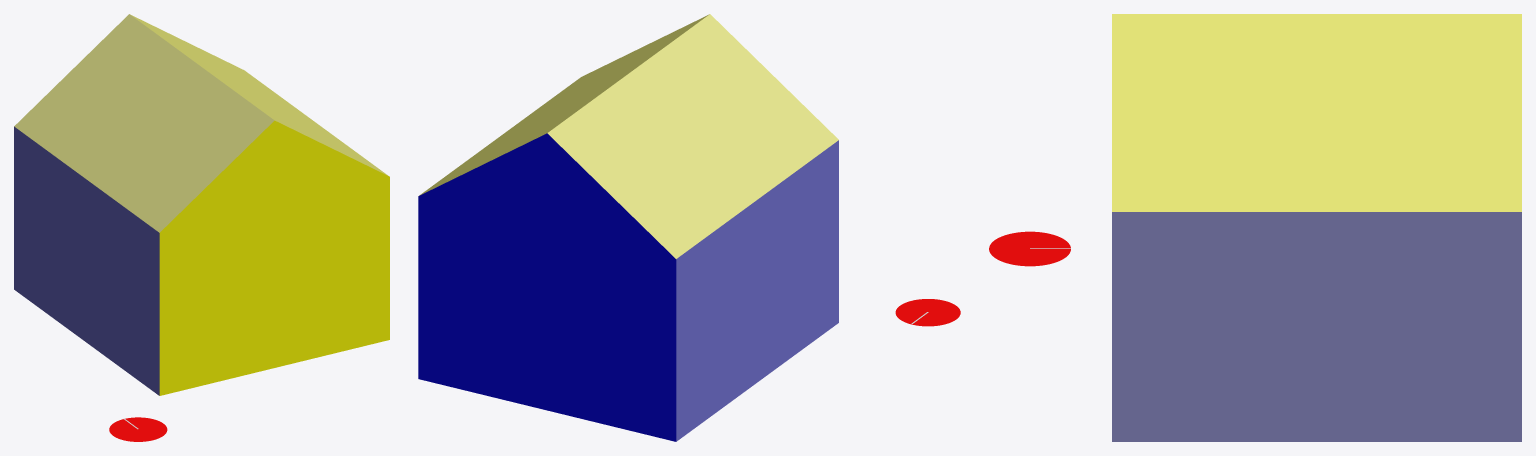
File: result.glb
The picture shows the model from 3 angles, left to right: view 1: azimuth 30°, elevation 25°; view 2: azimuth 150°, elevation 25°; view 3: azimuth 270°, elevation 25°; orthographic projection. The views are drawn at different scales.
Visible parts, largest first — view 1: f95112ec-d76c-485e-b048-b61a591a7633__undefined, b09aa6a2-1fc6-4b9f-a32d-4a644d961413__undefined, 9ec919db-cff8-4386-b85e-b82c581f9526__undefined, eb603e97-b977-4bfc-bd7b-da3d24349026__undefined, c7450c63-a4a9-4ff0-b50e-a0cfb32a3573__Circle; view 2: 9938e726-c70b-4648-9942-f02bd849a025__undefined, b09aa6a2-1fc6-4b9f-a32d-4a644d961413__undefined, 9ec919db-cff8-4386-b85e-b82c581f9526__undefined, eb603e97-b977-4bfc-bd7b-da3d24349026__undefined, c7450c63-a4a9-4ff0-b50e-a0cfb32a3573__Circle; view 3: 5e3f4b50-1d85-4ea6-978b-cf38cd66c20b__undefined, eb603e97-b977-4bfc-bd7b-da3d24349026__undefined, c7450c63-a4a9-4ff0-b50e-a0cfb32a3573__Circle.
Part boxes in pixels (x1=…): f95112ec-d76c-485e-b048-b61a591a7633__undefined: x1=159, y1=120, x2=389, y2=395; b09aa6a2-1fc6-4b9f-a32d-4a644d961413__undefined: x1=14, y1=14, x2=274, y2=232; 9ec919db-cff8-4386-b85e-b82c581f9526__undefined: x1=14, y1=126, x2=159, y2=395; eb603e97-b977-4bfc-bd7b-da3d24349026__undefined: x1=130, y1=14, x2=388, y2=175; c7450c63-a4a9-4ff0-b50e-a0cfb32a3573__Circle: x1=109, y1=417, x2=167, y2=441; 9938e726-c70b-4648-9942-f02bd849a025__undefined: x1=418, y1=133, x2=676, y2=441; b09aa6a2-1fc6-4b9f-a32d-4a644d961413__undefined: x1=547, y1=14, x2=838, y2=258; 9ec919db-cff8-4386-b85e-b82c581f9526__undefined: x1=676, y1=140, x2=838, y2=441; eb603e97-b977-4bfc-bd7b-da3d24349026__undefined: x1=419, y1=14, x2=709, y2=195; c7450c63-a4a9-4ff0-b50e-a0cfb32a3573__Circle: x1=895, y1=299, x2=960, y2=326; 5e3f4b50-1d85-4ea6-978b-cf38cd66c20b__undefined: x1=1112, y1=212, x2=1521, y2=441; eb603e97-b977-4bfc-bd7b-da3d24349026__undefined: x1=1112, y1=14, x2=1521, y2=211; c7450c63-a4a9-4ff0-b50e-a0cfb32a3573__Circle: x1=989, y1=231, x2=1070, y2=266.
Bounding box in the file's own units: 607 × 469 × 650.
